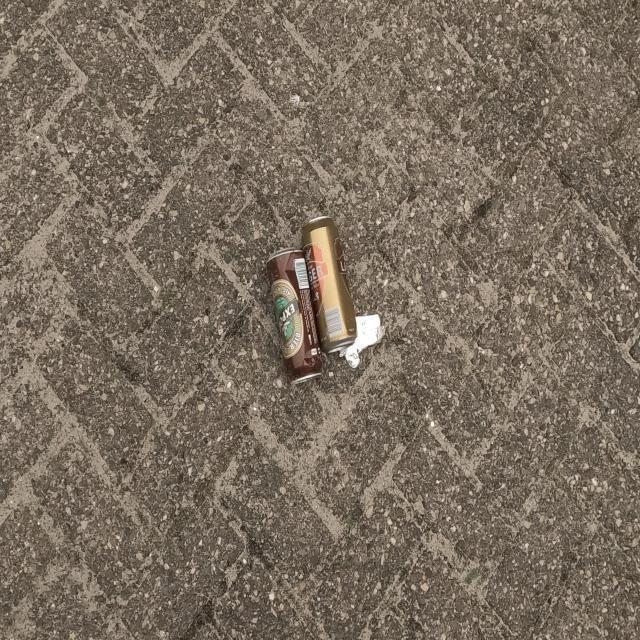Can-Metal: (303, 216, 358, 354), (266, 248, 321, 382)
